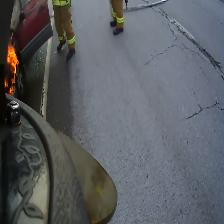fire: (4, 47, 19, 95)
